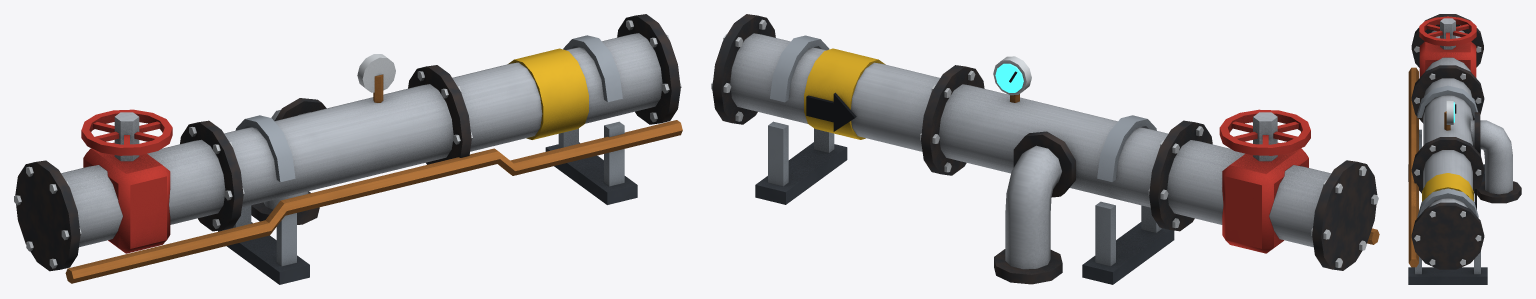
The model's file is tuberia_modular.fbx.
The picture shows the model from 3 angles, left to right: view 1: azimuth 30°, elevation 25°; view 2: azimuth 150°, elevation 25°; view 3: azimuth 270°, elevation 25°; orthographic projection. The views are drawn at different scales.
Parts seen in each view (by area): view 1: tuberia_modular, tuberia_modular_volante; view 2: tuberia_modular, tuberia_modular_volante, tuberia_modular_neon; view 3: tuberia_modular, tuberia_modular_volante.
Part boxes in pixels (x1,y1,x2,y2): tuberia_modular: (14,14,682,284); tuberia_modular_volante: (81,109,172,155); tuberia_modular: (711,14,1379,284); tuberia_modular_volante: (1219,109,1310,155); tuberia_modular_neon: (995,63,1023,92); tuberia_modular: (1408,14,1521,284); tuberia_modular_volante: (1419,16,1476,46).
Size of the model in its own units: 4.04 by 1.1 by 1.
Materials: 2 (2 with a texture image).
